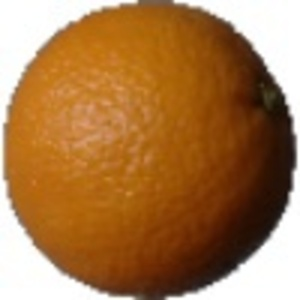laranja: (5, 3, 297, 295)
